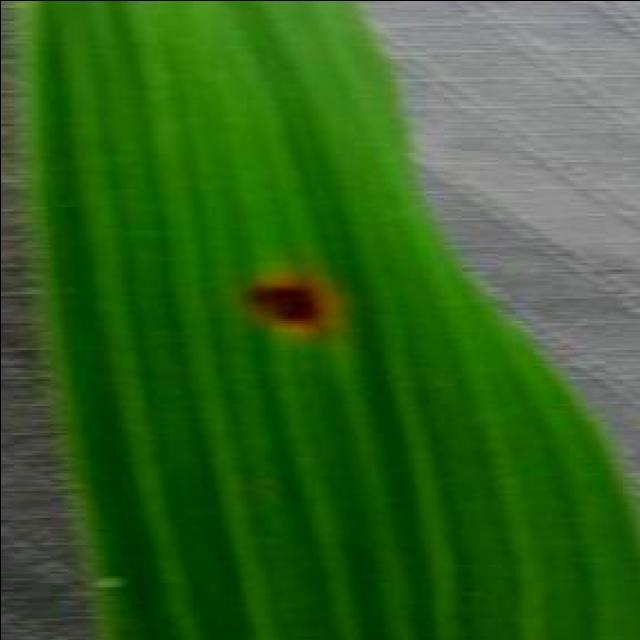Brown_Spot: (222, 260, 340, 340)
